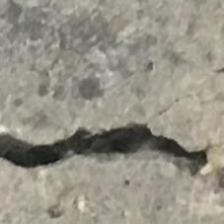Crack: (0, 100, 224, 202)
